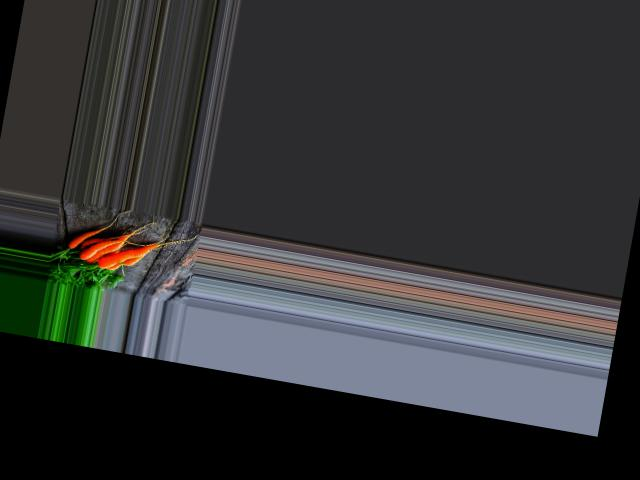carrot: (91, 236, 152, 277)
